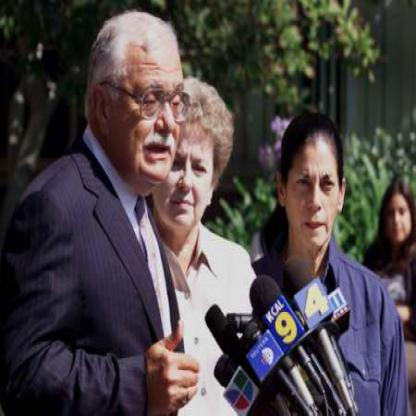face: (109, 18, 188, 193), (153, 94, 217, 234), (286, 116, 344, 253), (386, 185, 415, 244)
